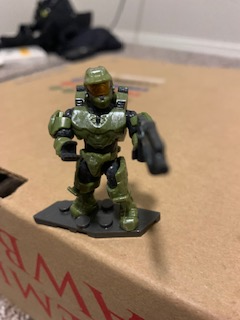chief: (46, 66, 154, 232)
spartan: (44, 64, 152, 230)
